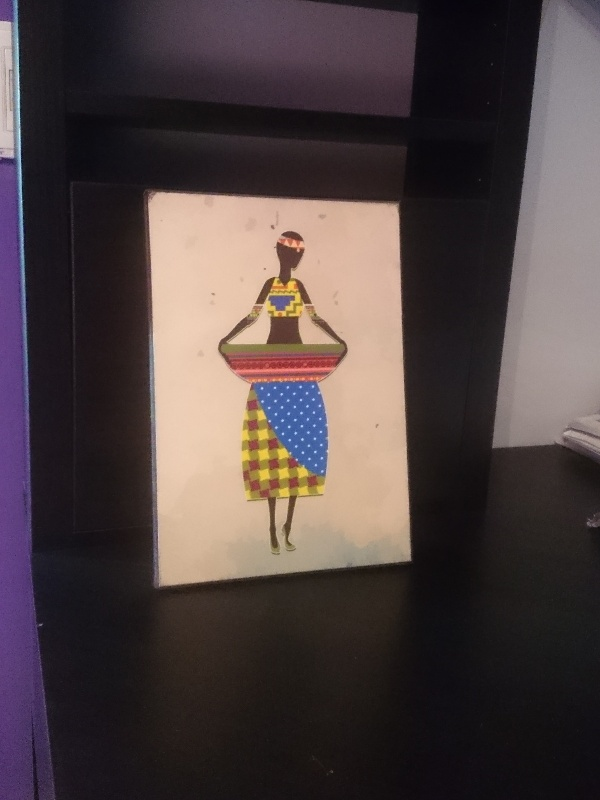my image: (150, 196, 409, 584)
